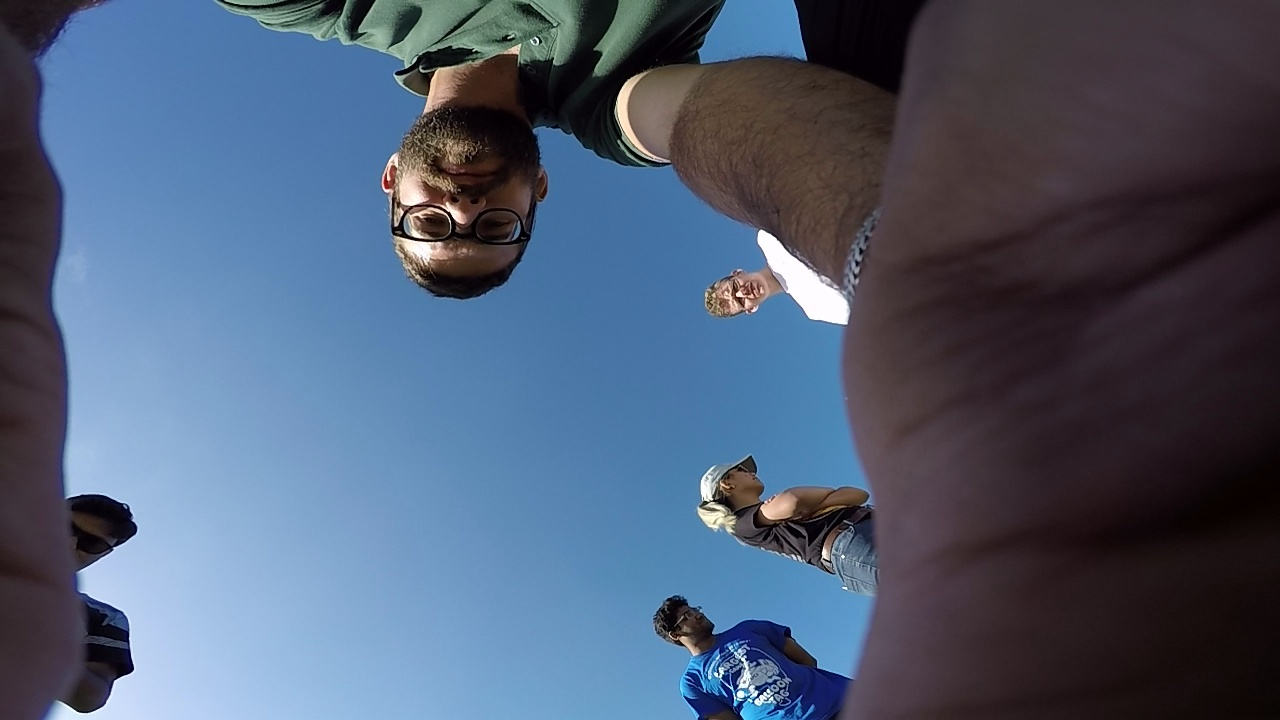person: (474, 25, 1257, 704), (190, 24, 1051, 526), (774, 28, 1280, 705), (650, 239, 1280, 719), (230, 25, 880, 364), (5, 13, 129, 720), (689, 457, 882, 593), (649, 600, 834, 713)
